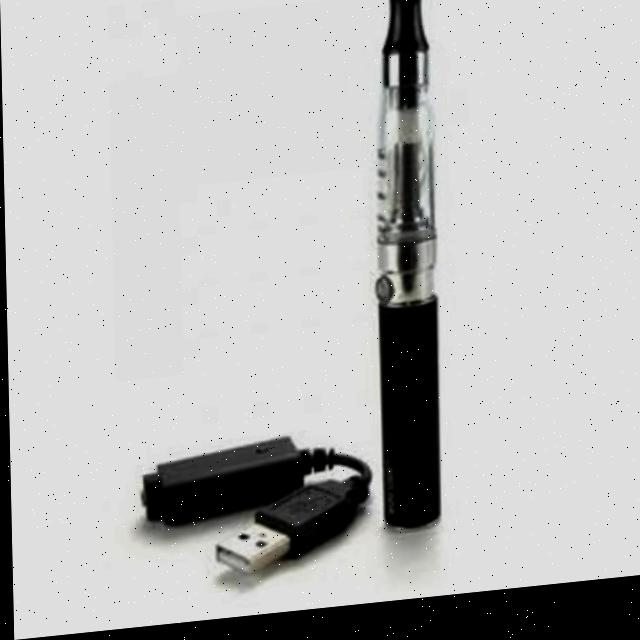vape: (368, 0, 440, 540)
